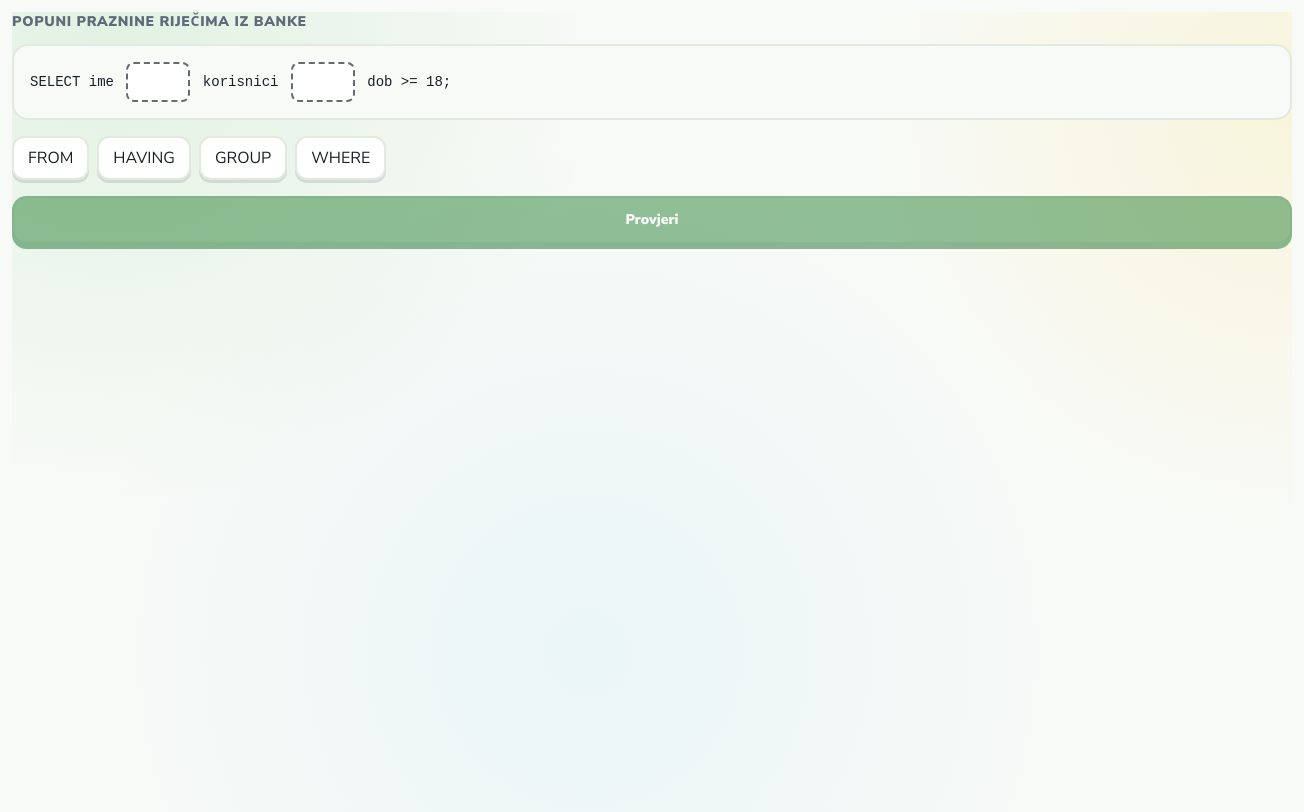
Test case: fill in the blank › potvrda čeka da sve praznine budu popunjene
This screenshot has width=1304, height=812.
Expected: the button "Provjeri" is disabled, [12, 196, 1292, 244]
Click the button "FROM" at (51, 158), box [12, 136, 89, 180]
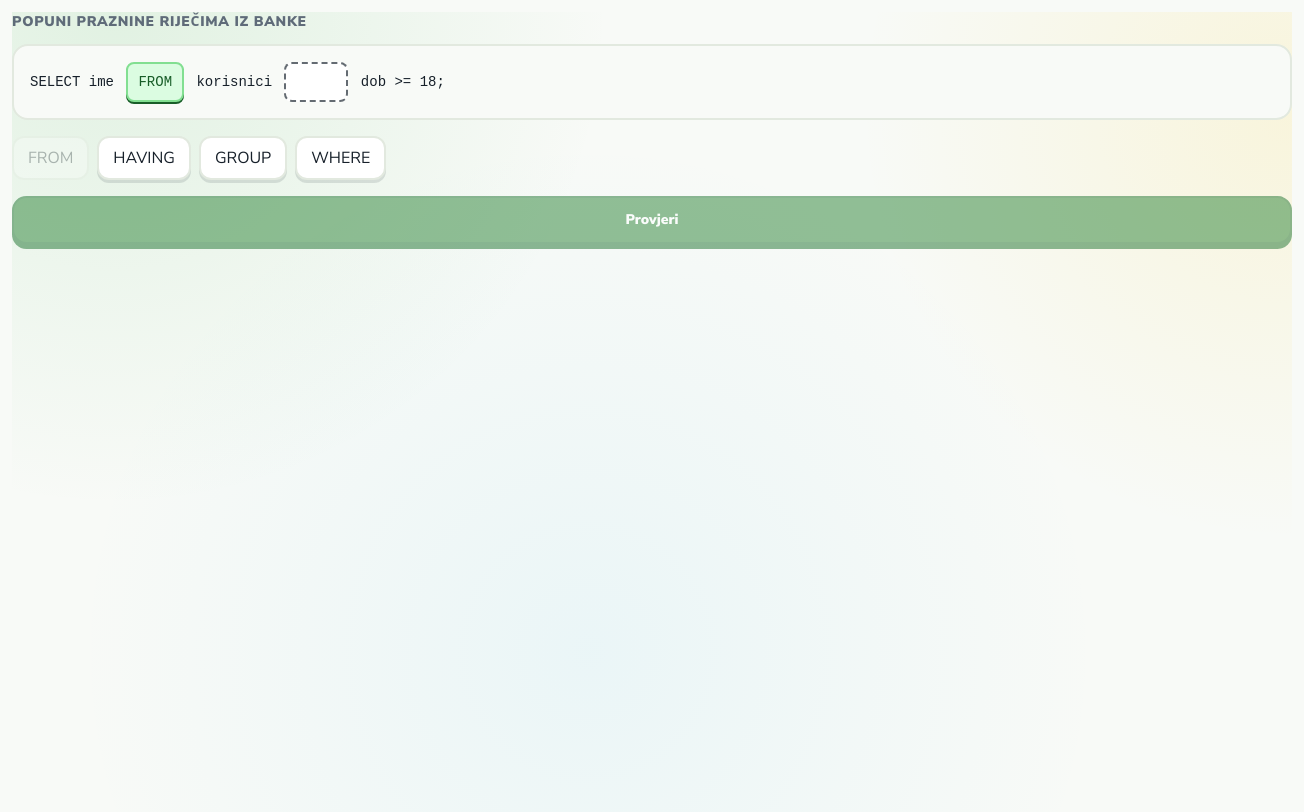
Expected: the button "Provjeri" is disabled, [12, 196, 1292, 244]
Click the button "WHERE" at (341, 158), box [295, 136, 386, 180]
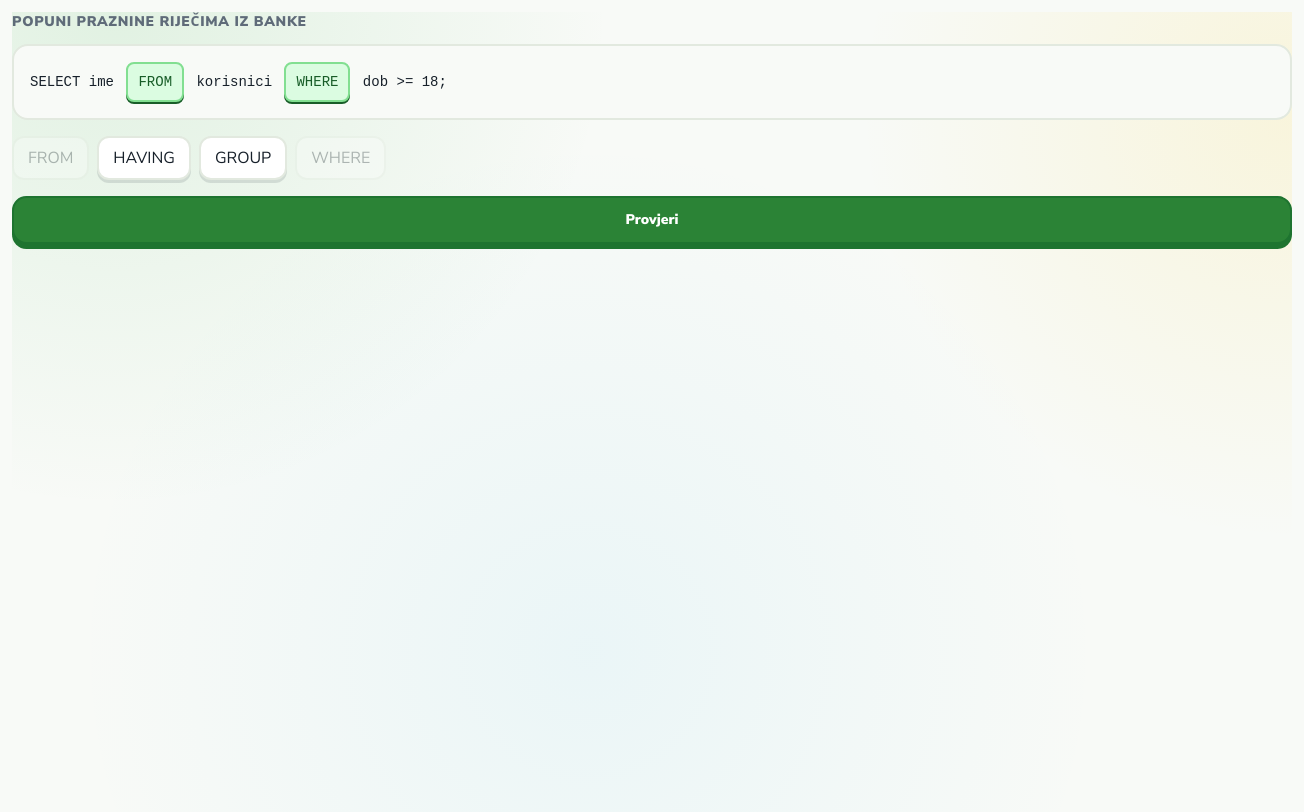
Expected: the button "Provjeri" is enabled, [12, 196, 1292, 244]
